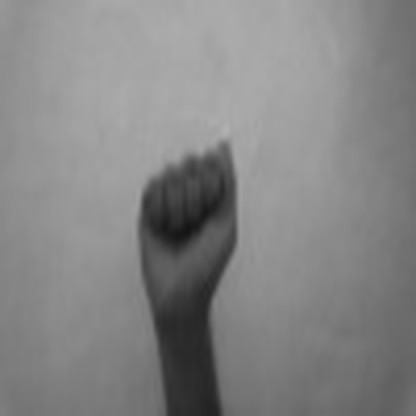a: (133, 128, 242, 311)
